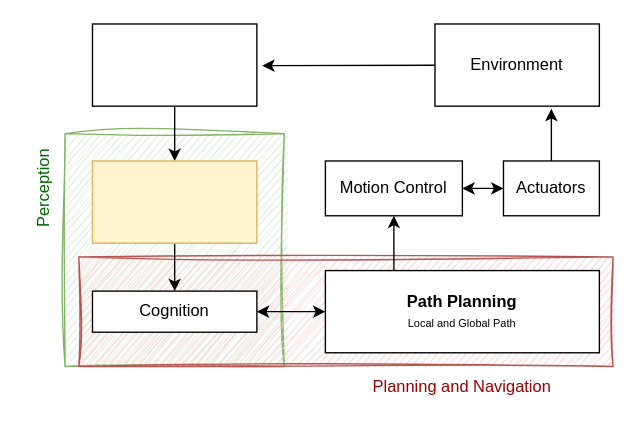
The diagram is 637 pixels wide and 432 high, and some of its shapes have lost their labels. The shapes that lost their labels are listed below. From the top down, each one's centre as x and y in pixels, then its label:
At (174,64): "Sensors Data Processing".
At (174,201): "Localization and Mapping".
